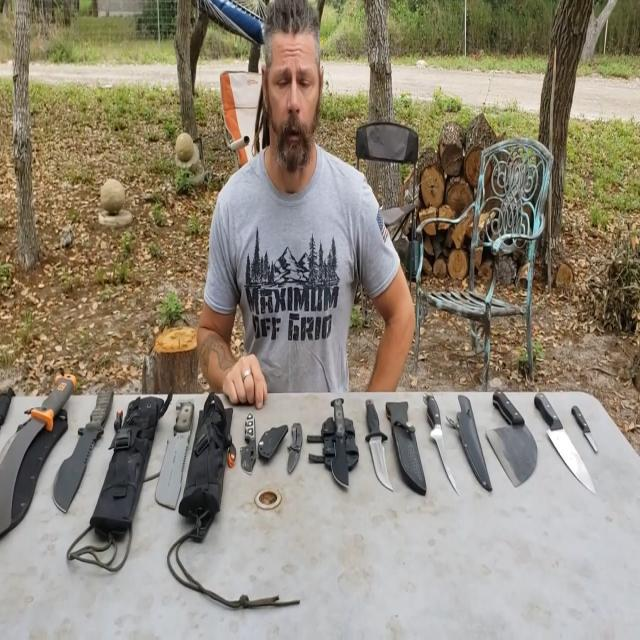knife: (0, 349, 79, 538), (50, 368, 120, 528), (532, 379, 595, 499), (153, 386, 197, 512), (486, 386, 538, 488), (426, 377, 464, 506), (365, 383, 399, 492), (324, 390, 356, 491), (235, 393, 268, 486), (279, 415, 311, 492), (574, 392, 606, 465)
